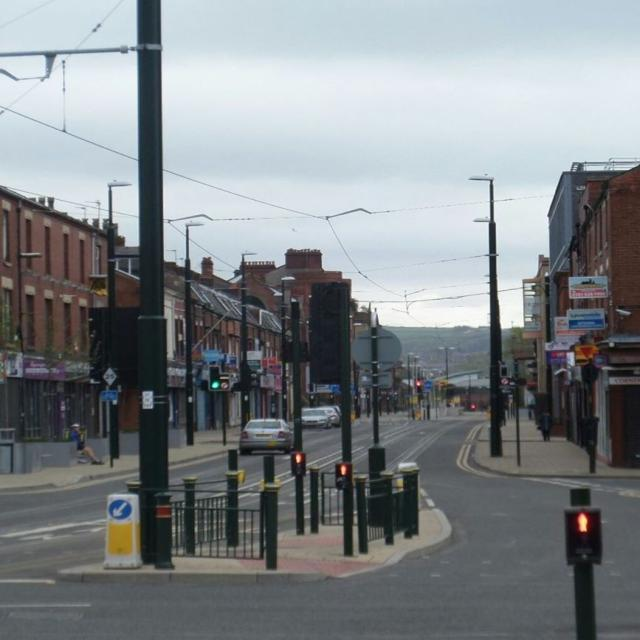off traffic light: (311, 282, 353, 382)
road_sign: (108, 498, 133, 521)
traffic light: (564, 507, 602, 564), (335, 463, 353, 487), (292, 452, 306, 476), (210, 366, 222, 392), (416, 381, 421, 392)
